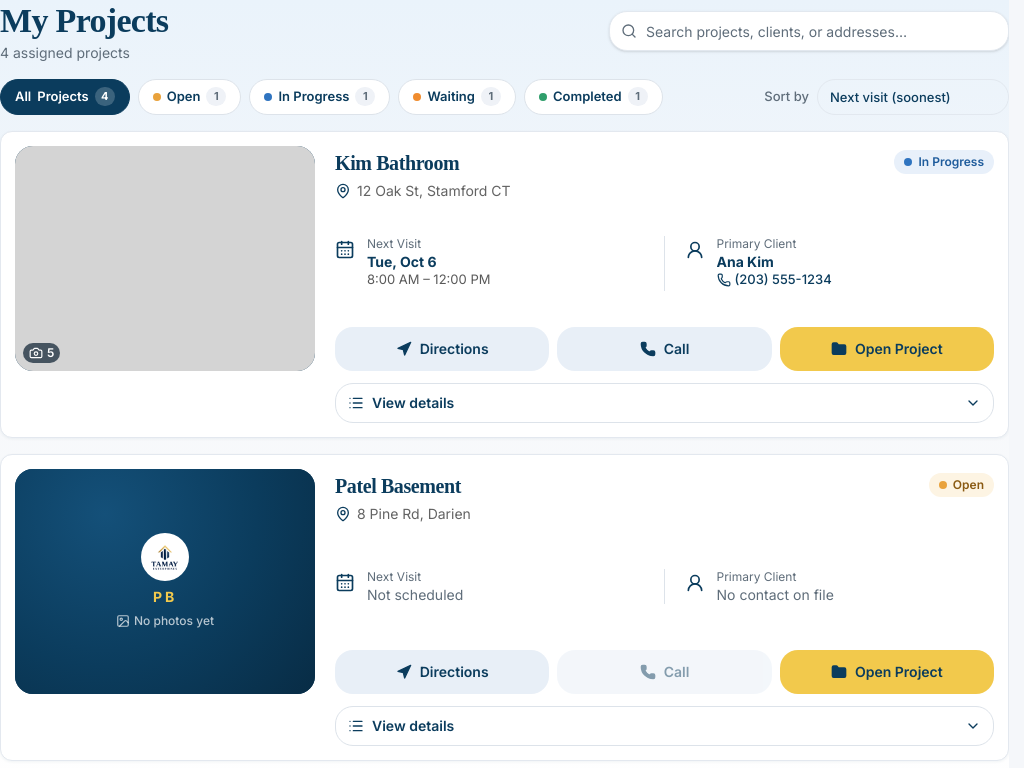
Test: My Projects (employee) › "Open" filter shows not-started projects, labelled Open
Click the button with aria-label "Open (1)". click: click(190, 96)
box: [138,78,242,114]
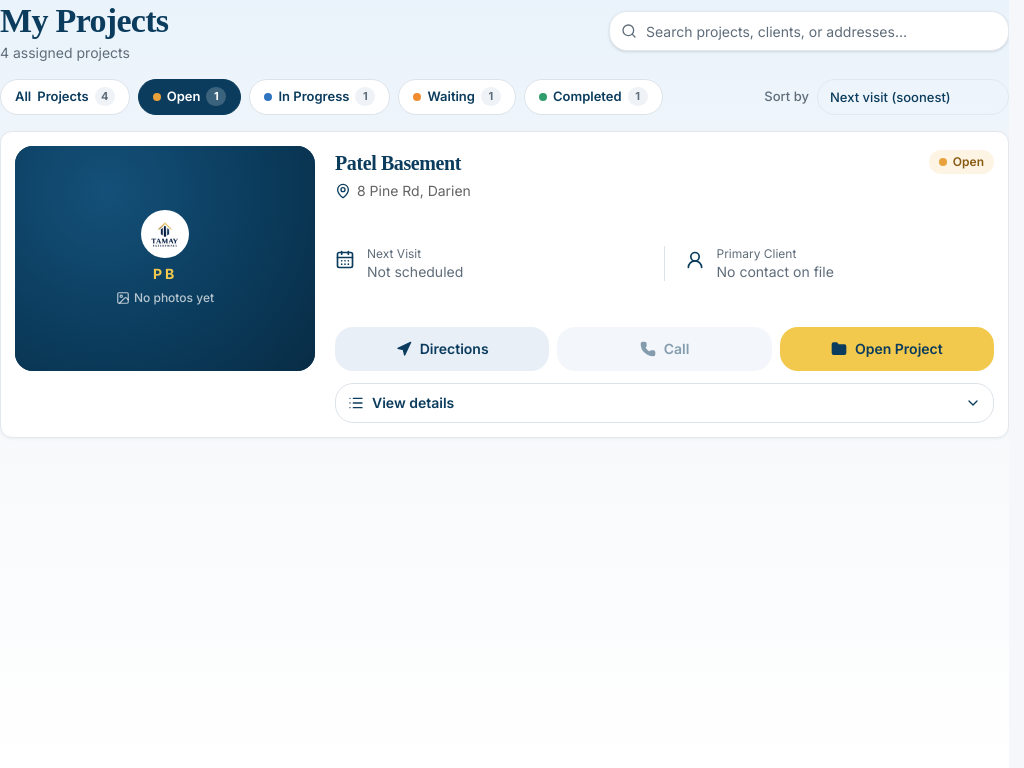
Expected: the link "Patel Basement" is shown, [335,152,461,174]
Expected: the number of elements with test id "my-project-card" is 1, [0,130,1009,438]
